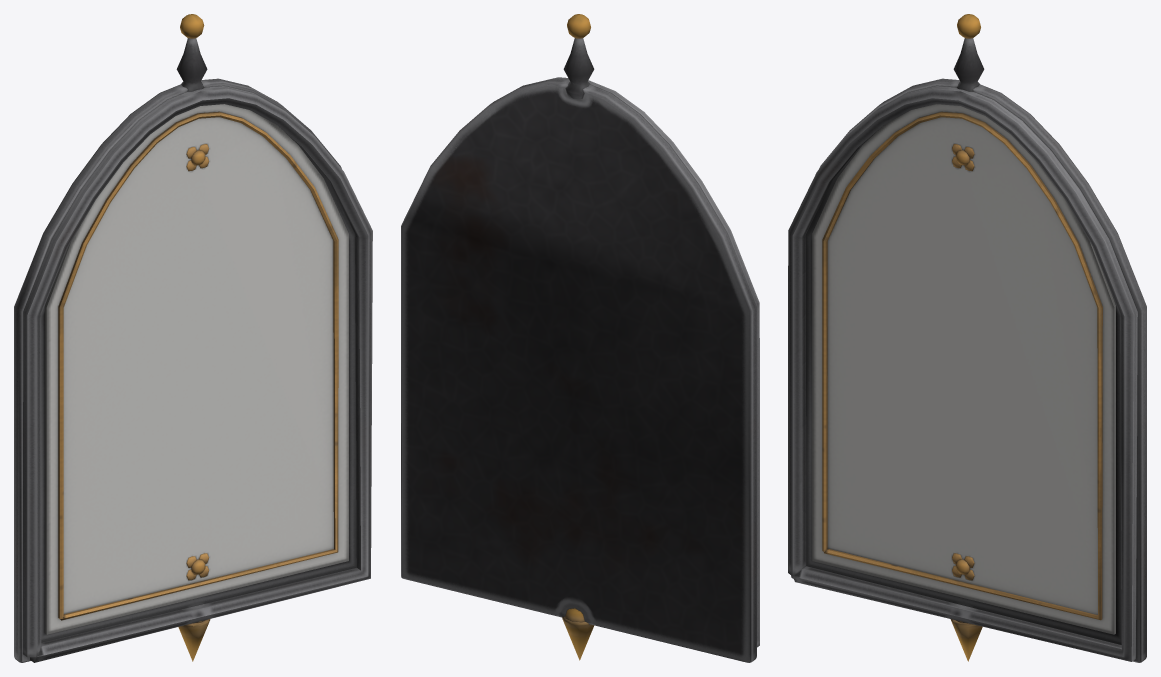
Rendered from EnamelPlate.fbx.
The picture shows the model from 3 angles, left to right: view 1: azimuth 30°, elevation 25°; view 2: azimuth 150°, elevation 25°; view 3: azimuth 330°, elevation 25°; orthographic projection.
Visible parts, largest first — view 1: EnamelPlate_Field, EnamelPlate_Main; view 2: EnamelPlate_Main; view 3: EnamelPlate_Field, EnamelPlate_Main.
Part boxes in pixels (<box>): EnamelPlate_Field: <box>45,104,348,634</box>; EnamelPlate_Main: <box>14,14,372,662</box>; EnamelPlate_Main: <box>401,14,759,662</box>; EnamelPlate_Field: <box>812,104,1115,634</box>; EnamelPlate_Main: <box>788,14,1146,662</box>.
Size of the model in its own units: 130 by 229 by 11.85.
